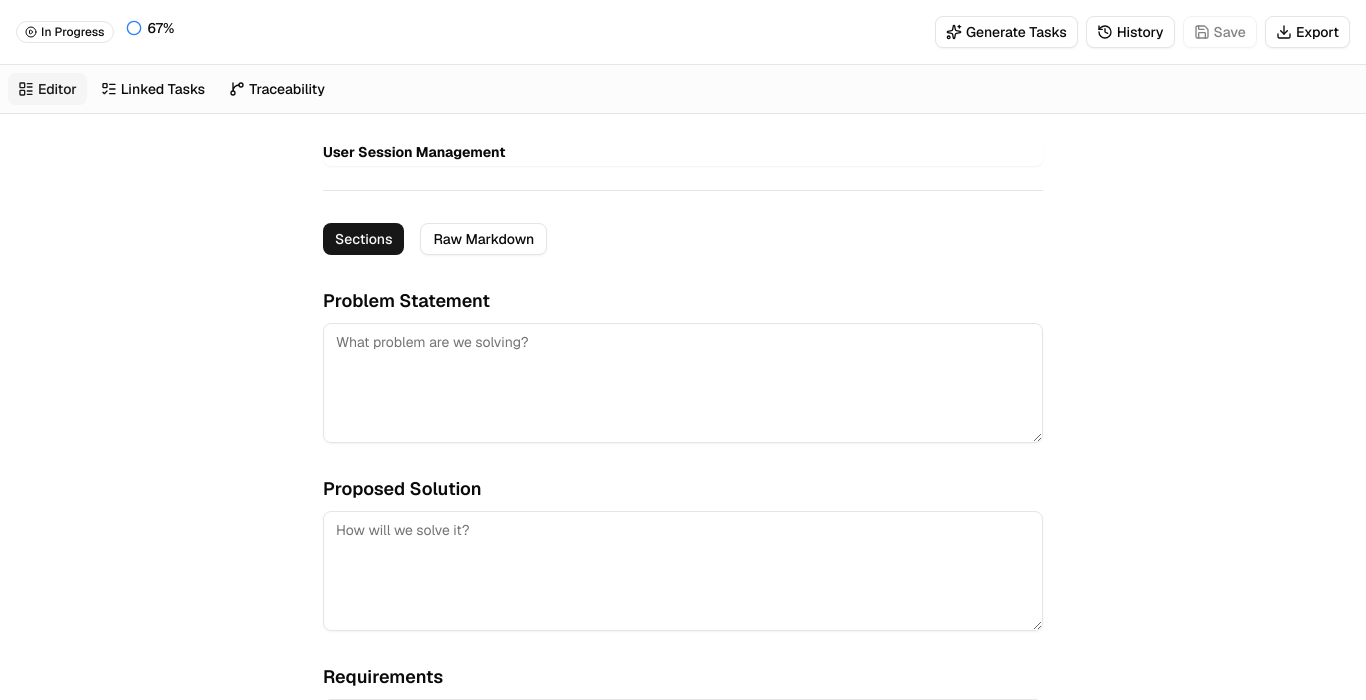
Scenario: 2.4 PRD to Task Linking › PRDEditor has linked tasks tab
The image size is (1366, 700).
Click the button with test id "linked-tasks-tab". click: point(153, 89)
box: [91,73,215,105]
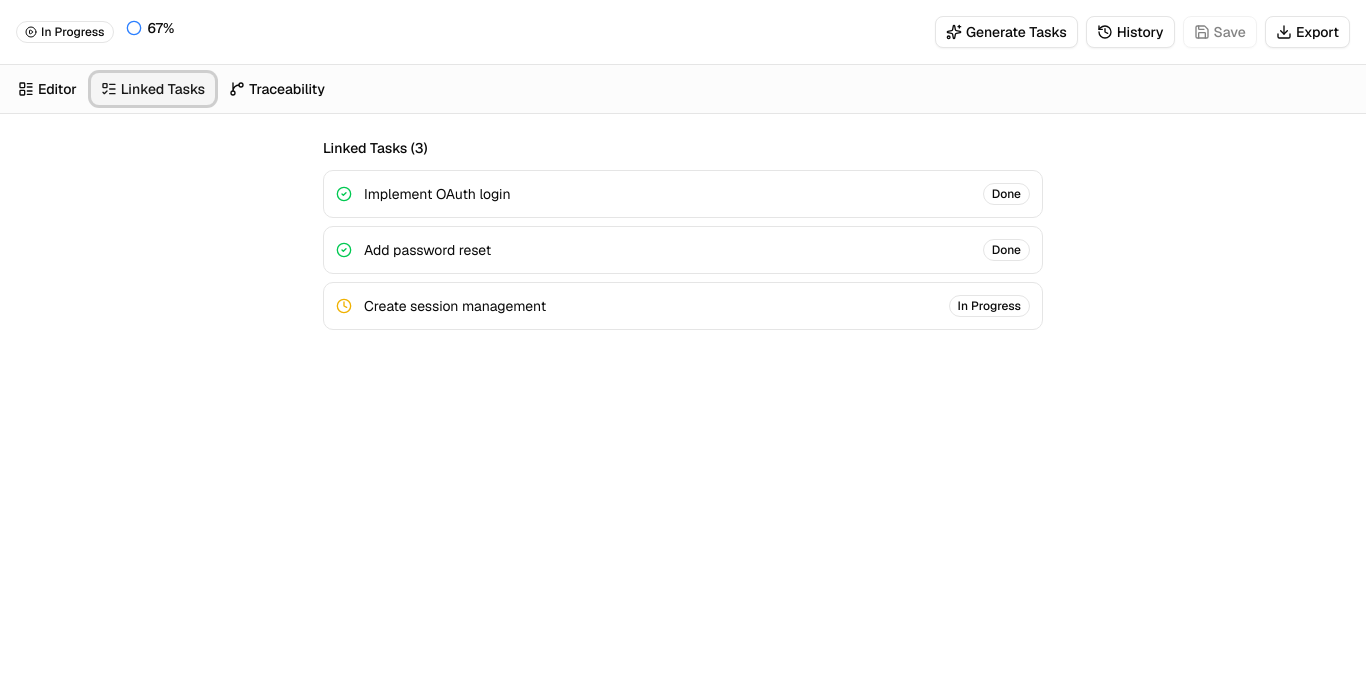
Check: the element with test id "linked-tasks" is shown, box [323,139,1043,330]
